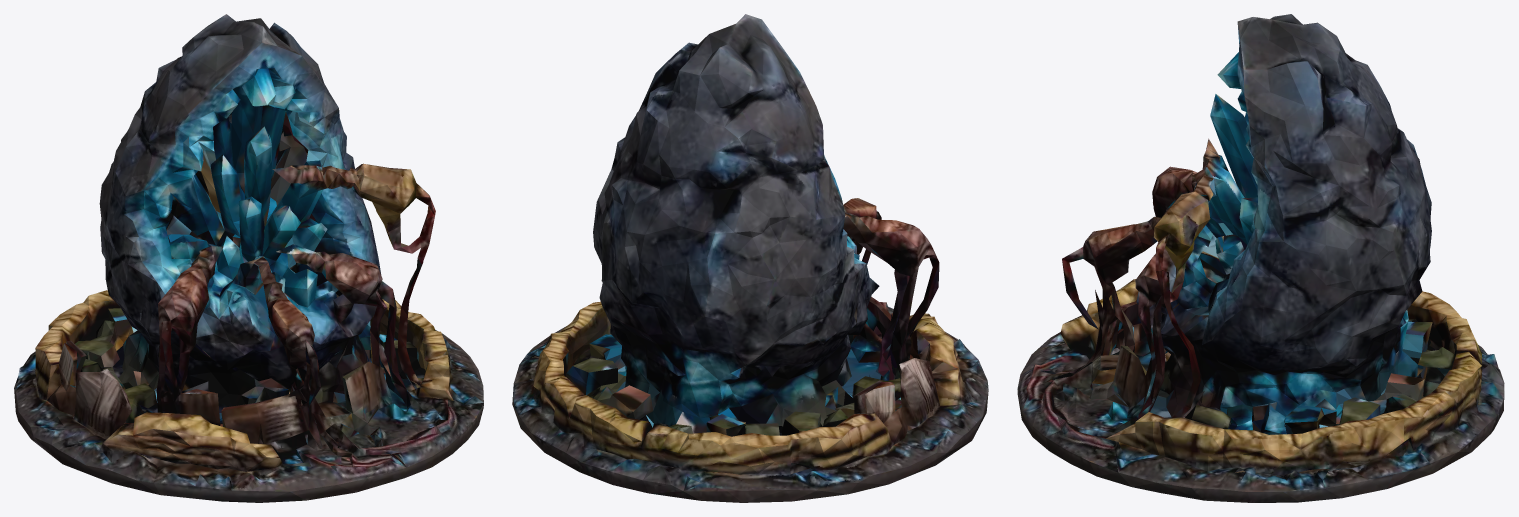
The model's file is crystal-geode.glb.
The picture shows the model from 3 angles, left to right: view 1: azimuth 30°, elevation 25°; view 2: azimuth 150°, elevation 25°; view 3: azimuth 270°, elevation 25°; orthographic projection. The views are drawn at different scales.
Visible parts, largest first — view 1: tmp1avq0pd8.ply; view 2: tmp1avq0pd8.ply; view 3: tmp1avq0pd8.ply.
Part boxes in pixels (x1,y1,x2,y2): tmp1avq0pd8.ply: (14,14,483,502); tmp1avq0pd8.ply: (512,14,988,502); tmp1avq0pd8.ply: (1017,14,1504,502).
Size of the model in its own units: 3.4 by 3 by 3.4.
1 material, 1 textured.
